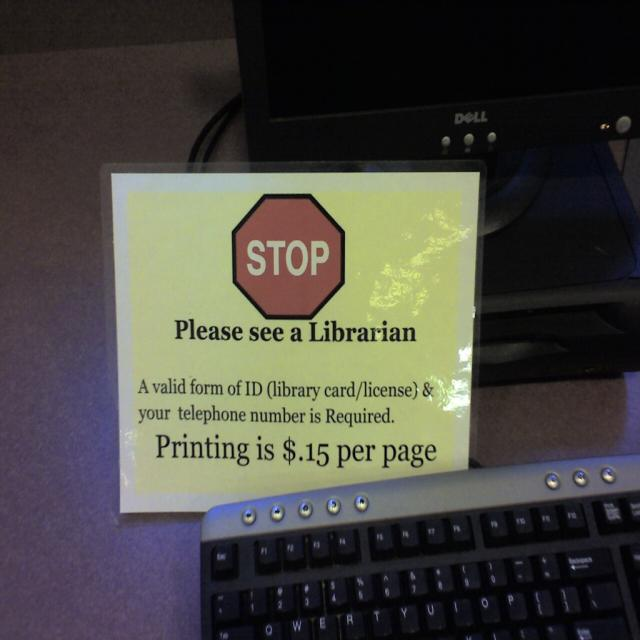Stop-sign: (232, 191, 346, 322)
